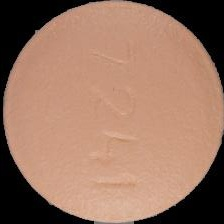53808-0310: (0, 0, 224, 224)
